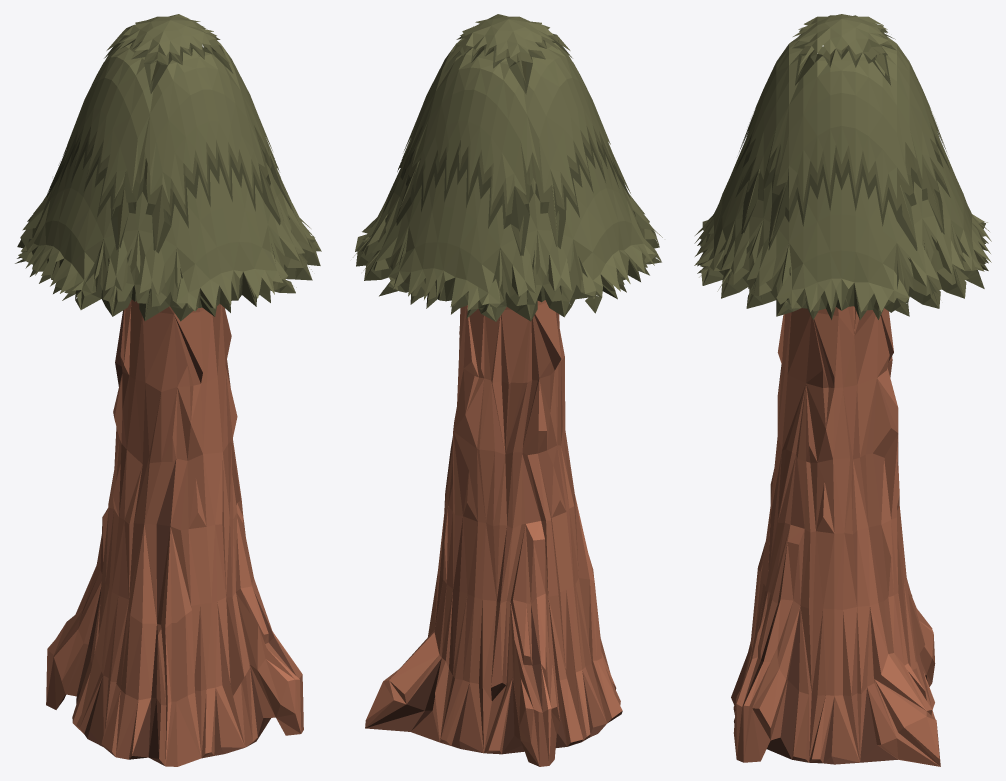
The model's file is redwood.gltf.
3 renders of one model, left to right at view 1: azimuth 30°, elevation 25°; view 2: azimuth 150°, elevation 25°; view 3: azimuth 270°, elevation 25°, orthographic.
Bounding box in the file's own units: 210 × 546 × 210.
1 material, 1 textured.
